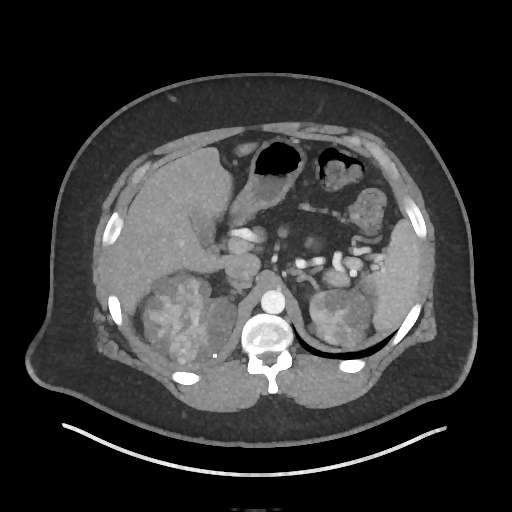Lesion: (167, 333, 198, 366)
